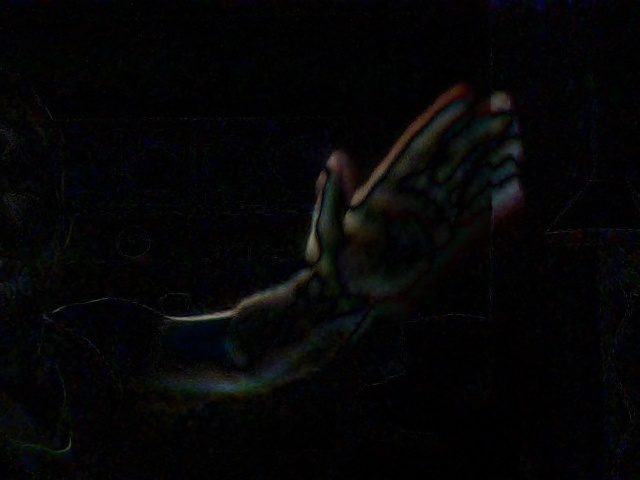hand_pa: (305, 70, 539, 323)
